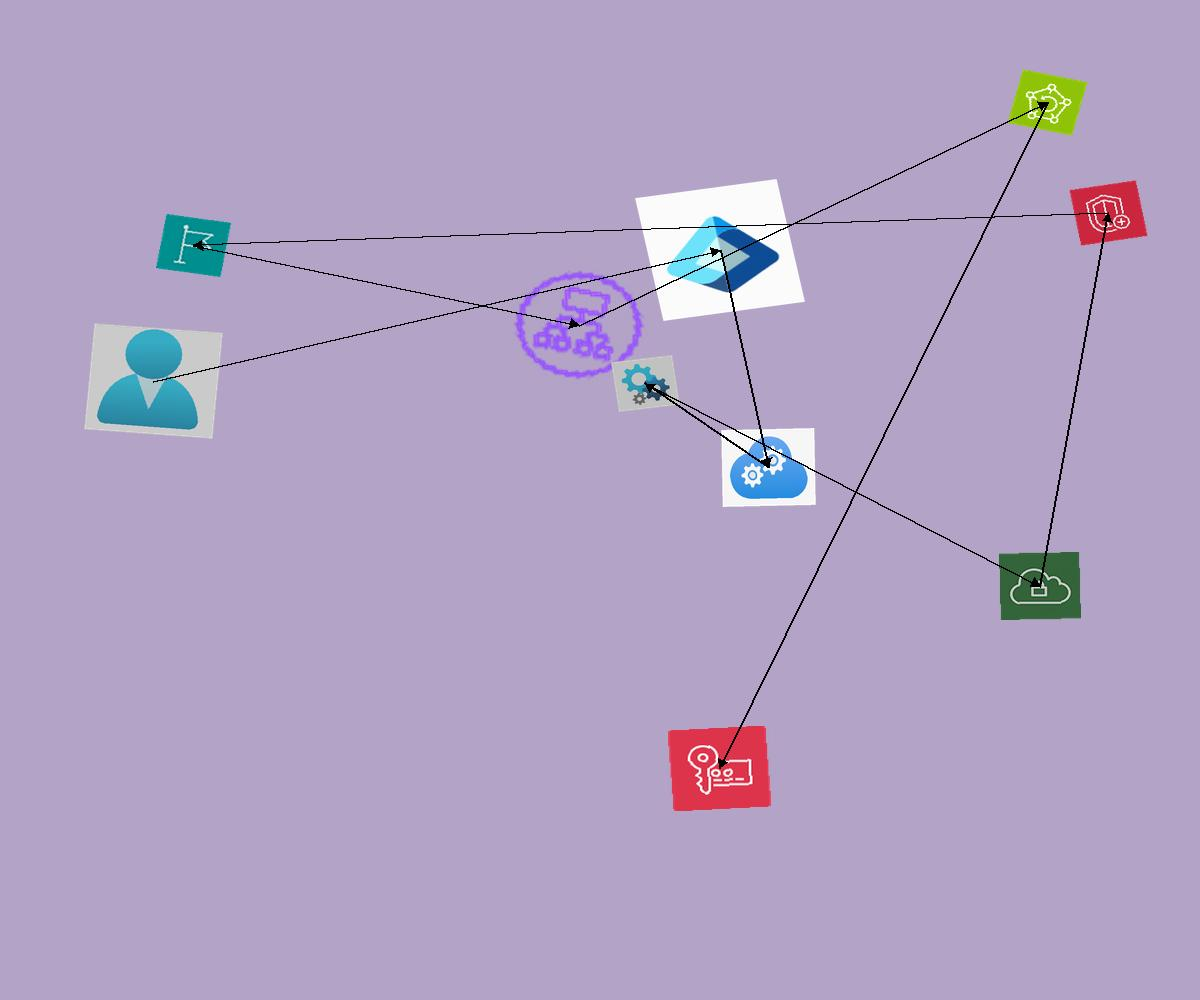AWS-Backup: (1007, 69, 1088, 136)
AWS-Key-Management-Service: (667, 725, 772, 812)
AWS-Private_vpc: (999, 552, 1081, 620)
AWS-Region: (156, 214, 231, 277)
AWS-Res_Elastic-Load-Balancing_Application-Load-Balancer: (494, 254, 664, 396)
AWS-Shield: (1069, 180, 1148, 246)
Azure_api: (611, 355, 680, 412)
Azure_cloud_services: (721, 428, 816, 507)
Azure_microsoft_entra: (635, 179, 805, 321)
Azure_users: (84, 323, 223, 439)
